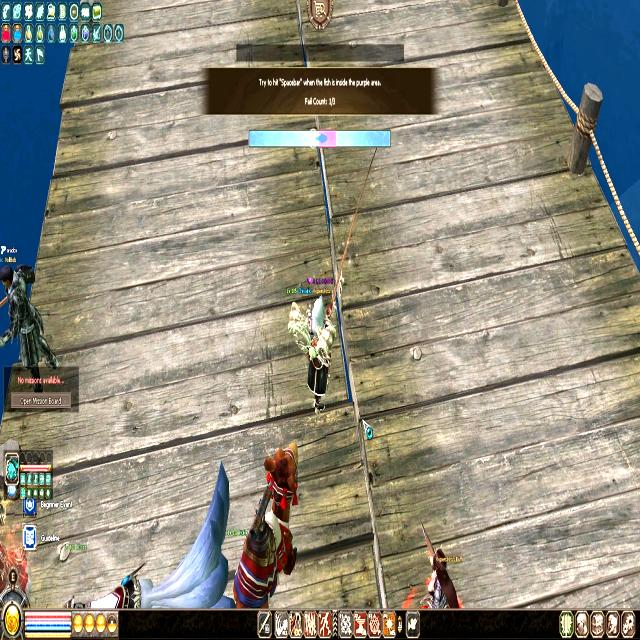fishes: (316, 131, 328, 145)
